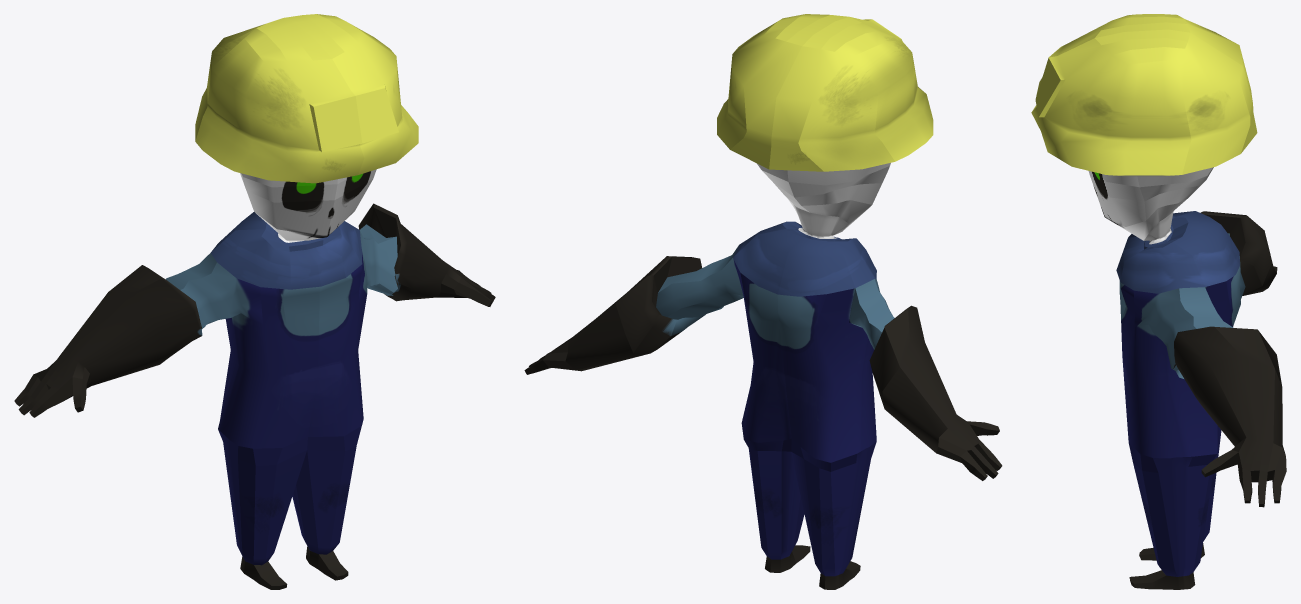
The model's file is MainCharacter.fbx.
The picture shows the model from 3 angles, left to right: view 1: azimuth 30°, elevation 25°; view 2: azimuth 150°, elevation 25°; view 3: azimuth 270°, elevation 25°; orthographic projection. The views are drawn at different scales.
Parts seen in each view (by area): view 1: BodyMesh_Right1; view 2: BodyMesh_Right1; view 3: BodyMesh_Right1.
Part boxes in pixels (left/top/right/bottom): BodyMesh_Right1: left=14, top=14, right=495, bottom=589; BodyMesh_Right1: left=524, top=14, right=1002, bottom=589; BodyMesh_Right1: left=1031, top=14, right=1286, bottom=589.
Bounding box in the file's own units: 7.3 × 8.08 × 3.45.
